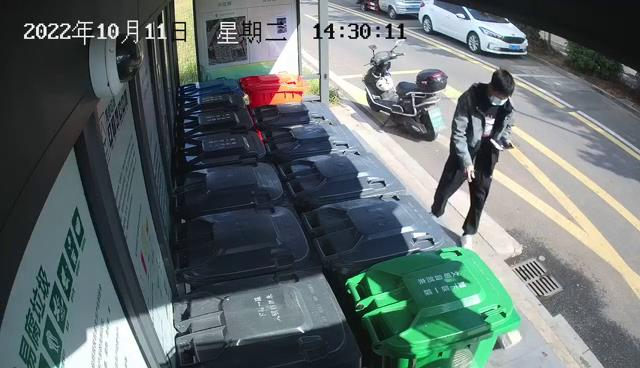person: (430, 66, 519, 250)
